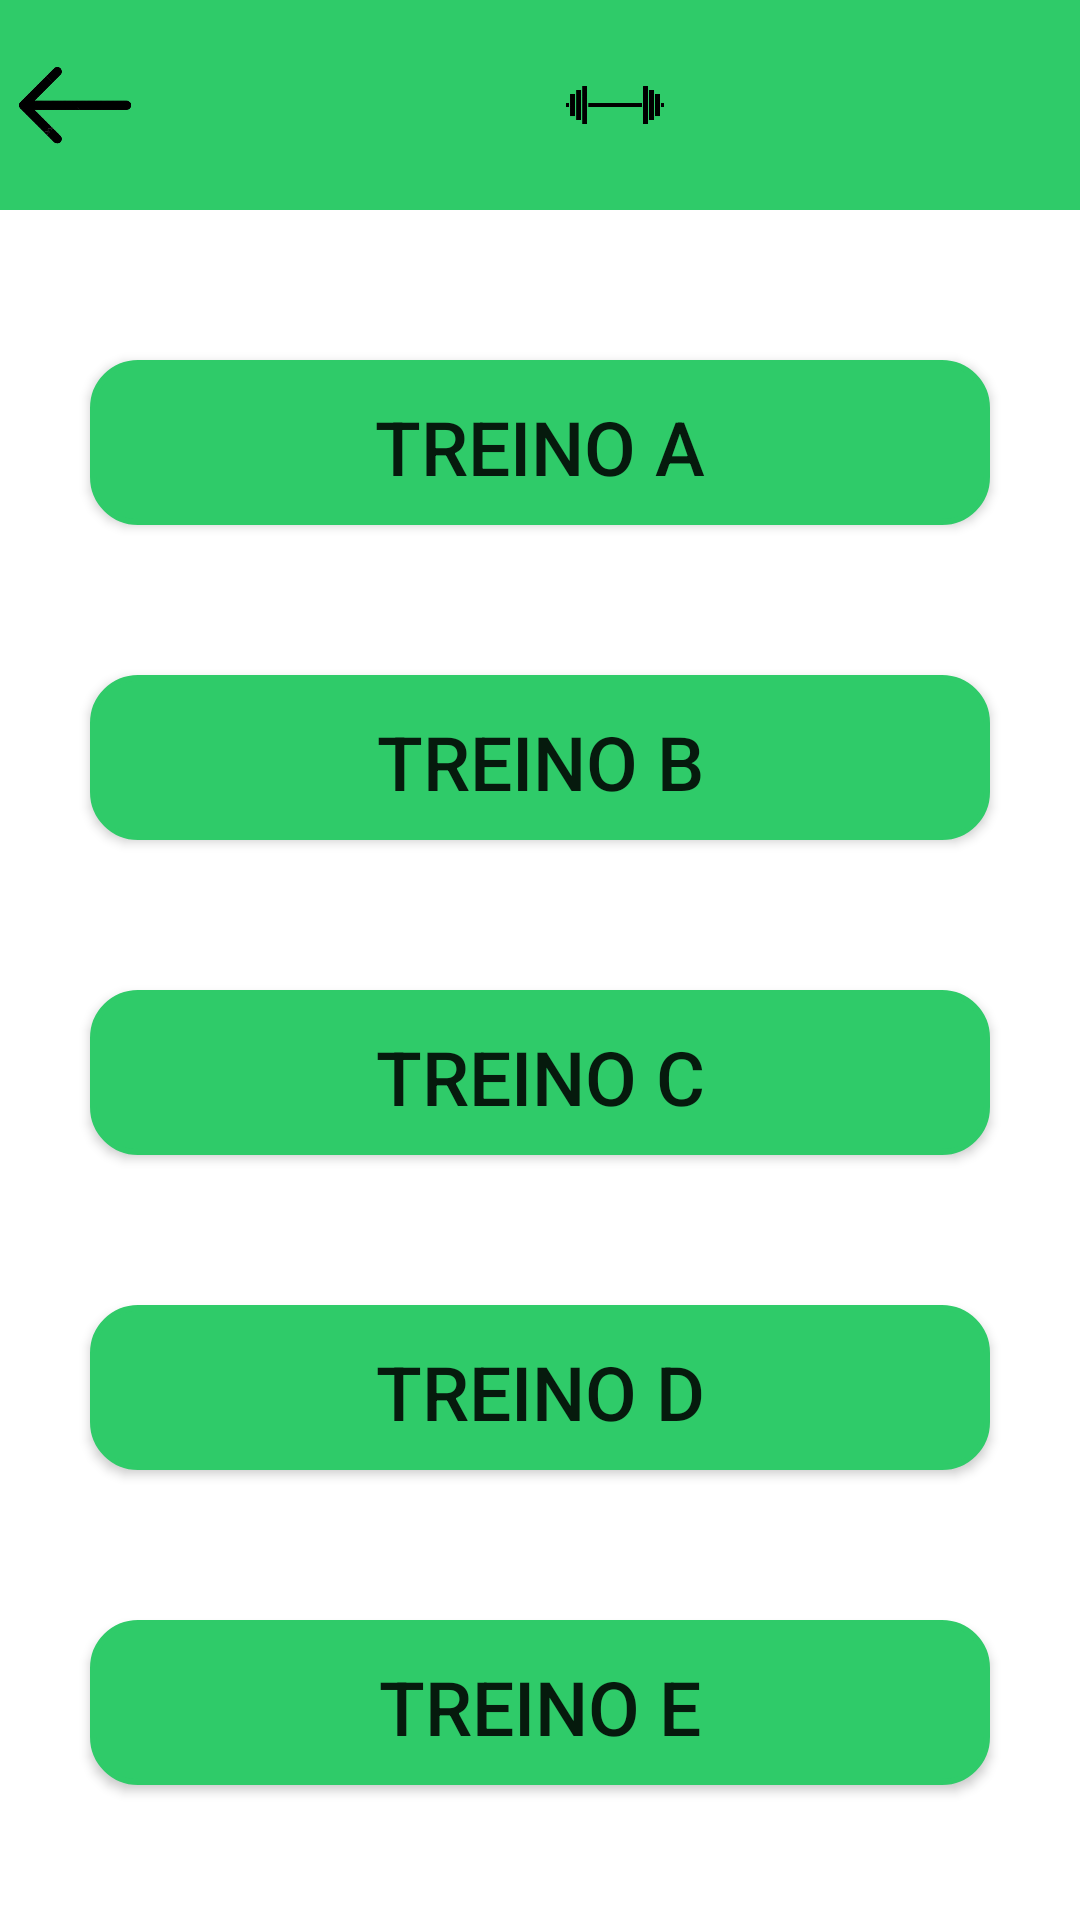

Icons on this 1080x1920 Android screen, each with the point to tap as point (x, y):
voltar: point (75, 105)
